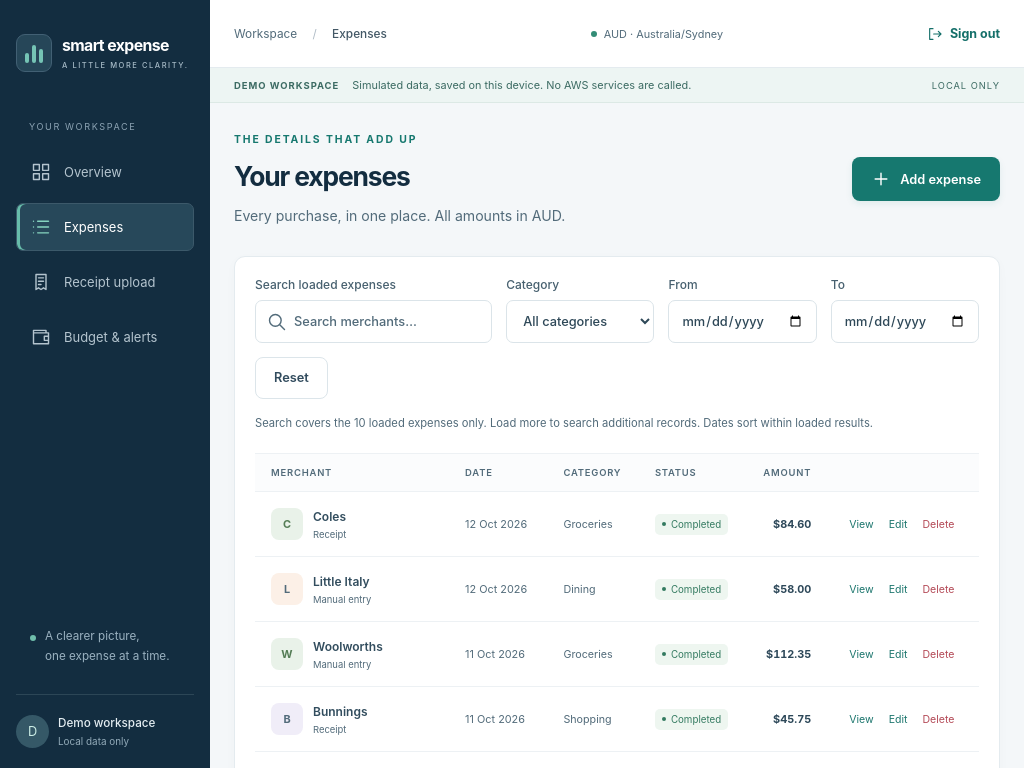
Test: expense interactions › edits a completed expense
Click the button with aria-label "Edit Coles" at x=898, y=524, box top-left (883, 509), bottom-right (913, 540)
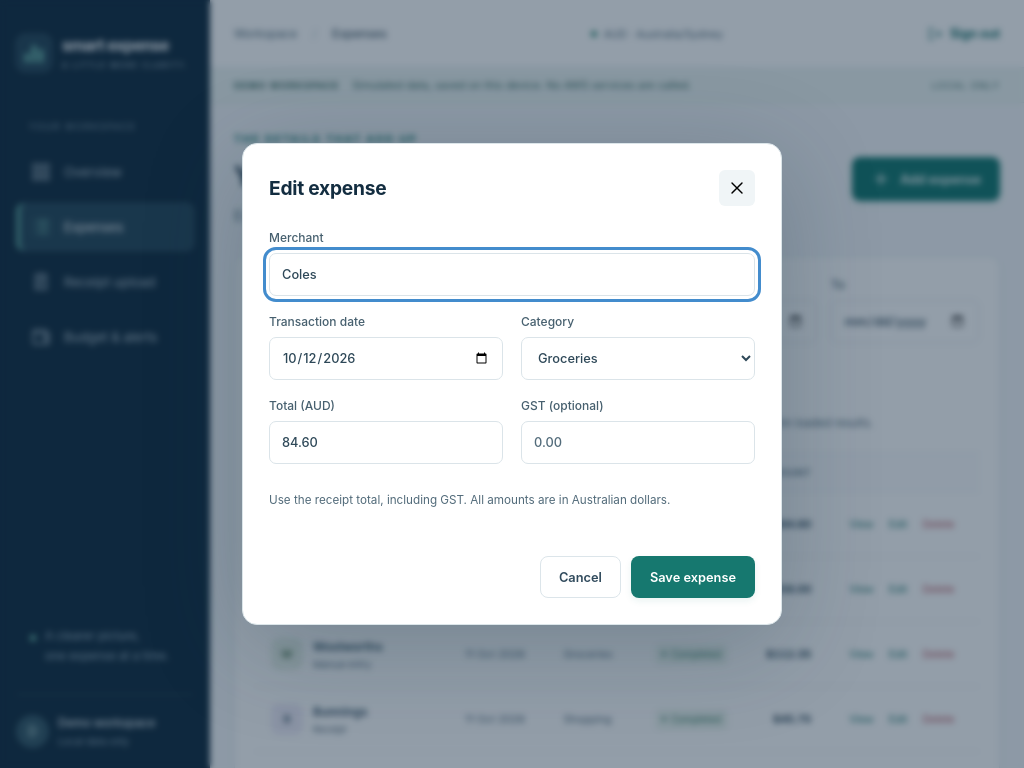
Replace the text in the field labelled "Merchant" with "Edited merchant" at x=512, y=274, box top-left (269, 253), bottom-right (755, 296)
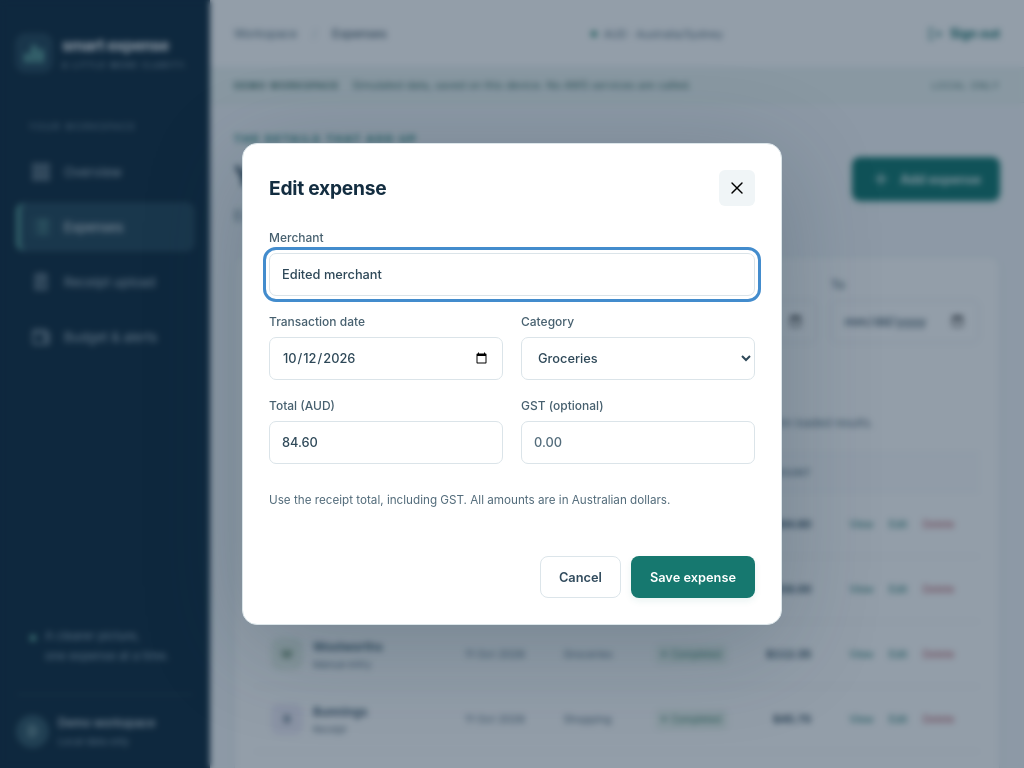
Click the button "Save expense" at x=693, y=577, box top-left (631, 556), bottom-right (755, 598)
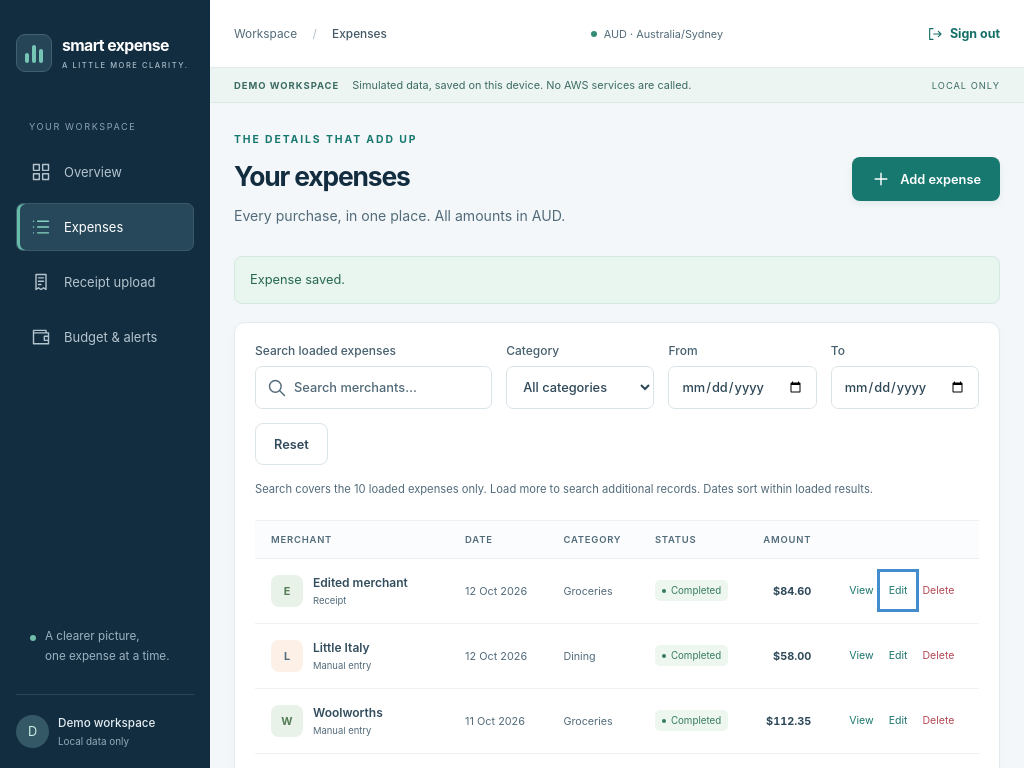
Result: the button with aria-label "Edit Edited merchant" is shown at top-left (883, 575), bottom-right (913, 606)
